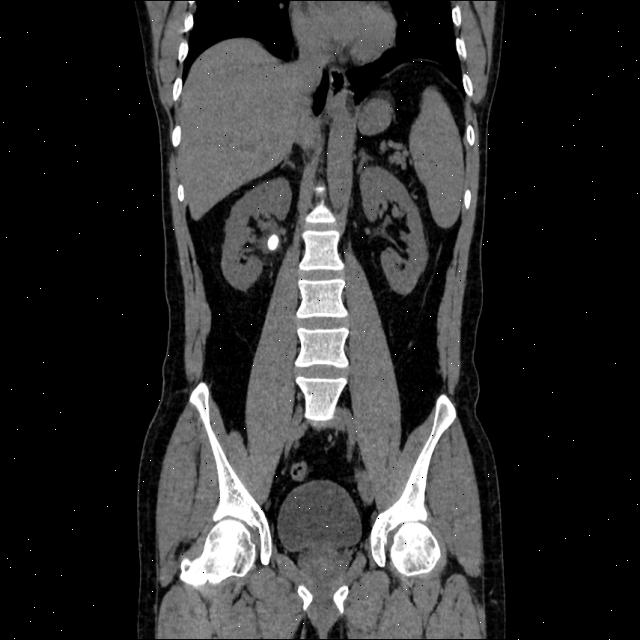kidneystone: (268, 234, 279, 251)
